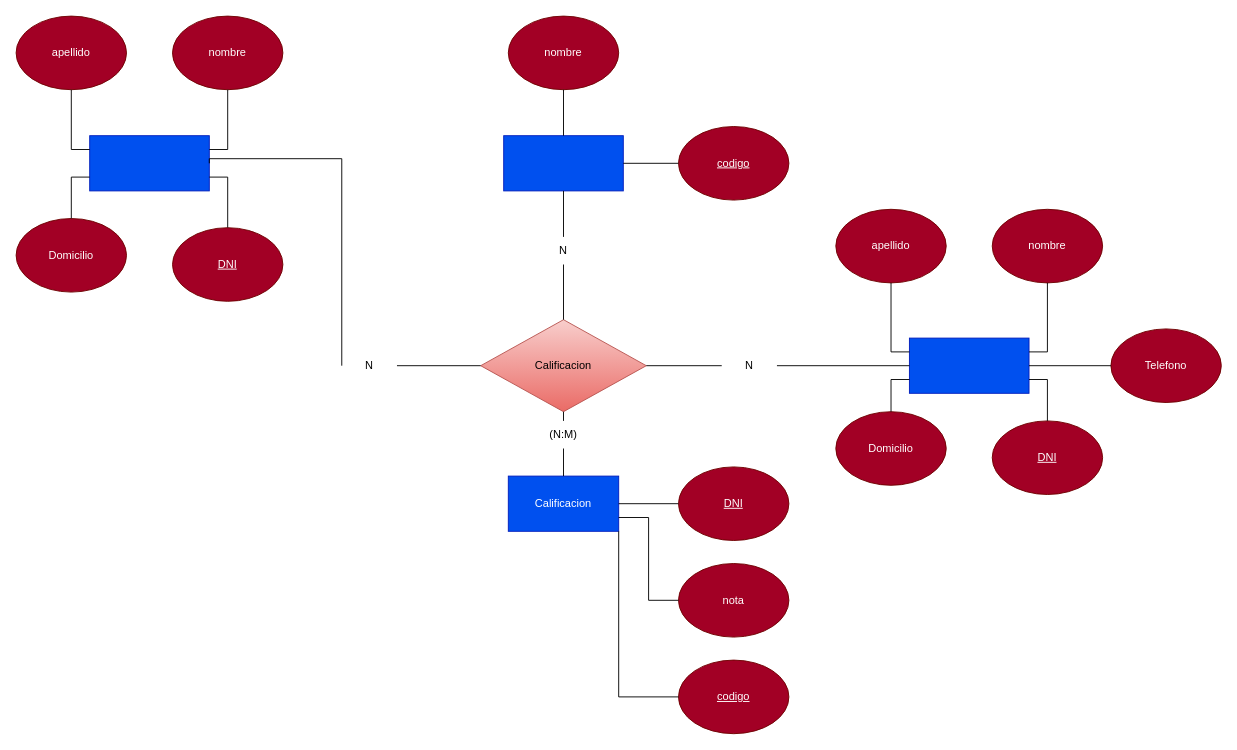
Image size: 1237x750. Some labels were removed from this diagram. The shapes that lost their labels are listed below. From the top down, each one's centre as x and y in pixels, then its label:
(x=149, y=163): Alumnos
(x=563, y=163): Asignatura
(x=968, y=365): Docente
